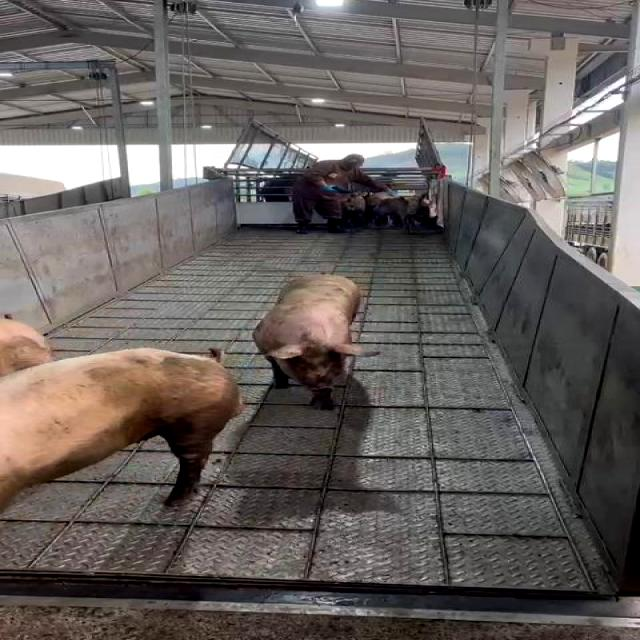pig: (0, 348, 243, 507), (252, 275, 378, 409)
